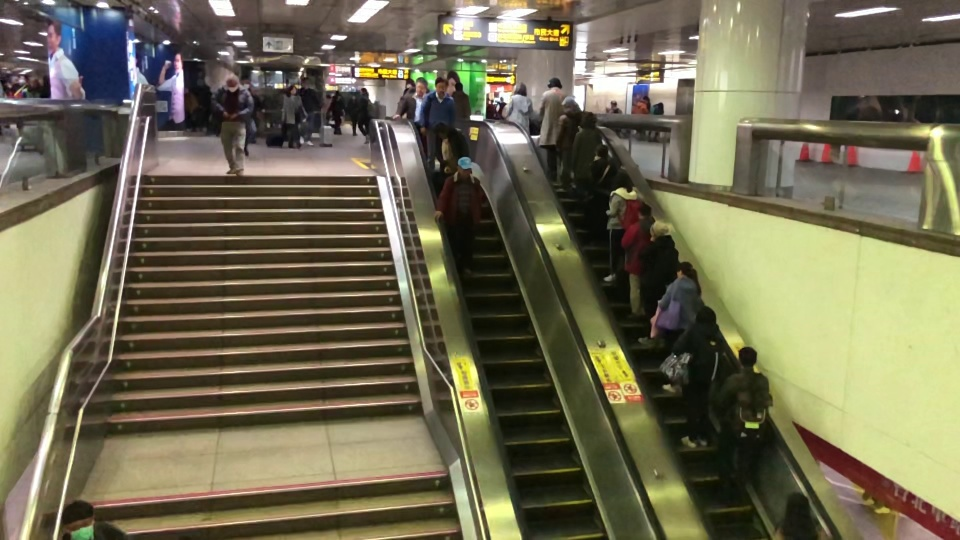person_head: (61, 498, 98, 540), (780, 492, 817, 530), (734, 344, 759, 371), (648, 220, 676, 244), (693, 305, 717, 329), (576, 109, 597, 131), (217, 75, 240, 92), (457, 154, 474, 175), (676, 261, 695, 279), (615, 167, 631, 188), (511, 79, 528, 98), (559, 97, 578, 112), (637, 202, 652, 220), (433, 79, 448, 96), (283, 82, 298, 98), (546, 77, 563, 90), (593, 144, 607, 159), (434, 123, 449, 136), (239, 74, 251, 90), (415, 78, 426, 95), (298, 76, 310, 90), (17, 74, 25, 85), (30, 76, 37, 87), (609, 99, 617, 108), (641, 95, 649, 104), (655, 102, 663, 111), (360, 87, 368, 96), (43, 75, 50, 85), (334, 90, 340, 96), (499, 95, 504, 102), (351, 94, 356, 100), (325, 94, 331, 99), (489, 98, 494, 103)
person_vbox: (711, 344, 774, 490), (669, 305, 729, 449), (656, 261, 706, 394), (432, 155, 483, 270), (637, 220, 681, 346), (208, 75, 254, 179), (603, 166, 639, 282), (620, 202, 655, 318), (422, 77, 456, 181), (572, 109, 603, 214), (582, 144, 613, 246), (61, 498, 130, 540), (553, 96, 582, 192), (540, 76, 566, 182), (430, 123, 472, 186), (771, 493, 824, 540), (500, 79, 540, 136), (239, 74, 264, 156), (276, 82, 305, 152), (391, 77, 430, 121), (297, 75, 321, 146), (631, 96, 650, 142), (356, 87, 371, 145), (326, 90, 344, 135), (647, 102, 663, 143), (607, 99, 623, 136), (346, 94, 357, 136), (8, 74, 27, 98), (494, 95, 506, 120), (26, 76, 41, 96), (38, 76, 50, 98), (486, 98, 496, 119), (321, 94, 332, 113)
